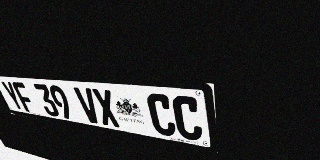3: (33, 84, 61, 117)
9: (47, 85, 75, 120)
C: (171, 95, 203, 142), (145, 93, 177, 137)
F: (11, 82, 38, 113)
V: (73, 87, 103, 125)
X: (91, 88, 121, 128)
Y: (0, 81, 26, 111)
